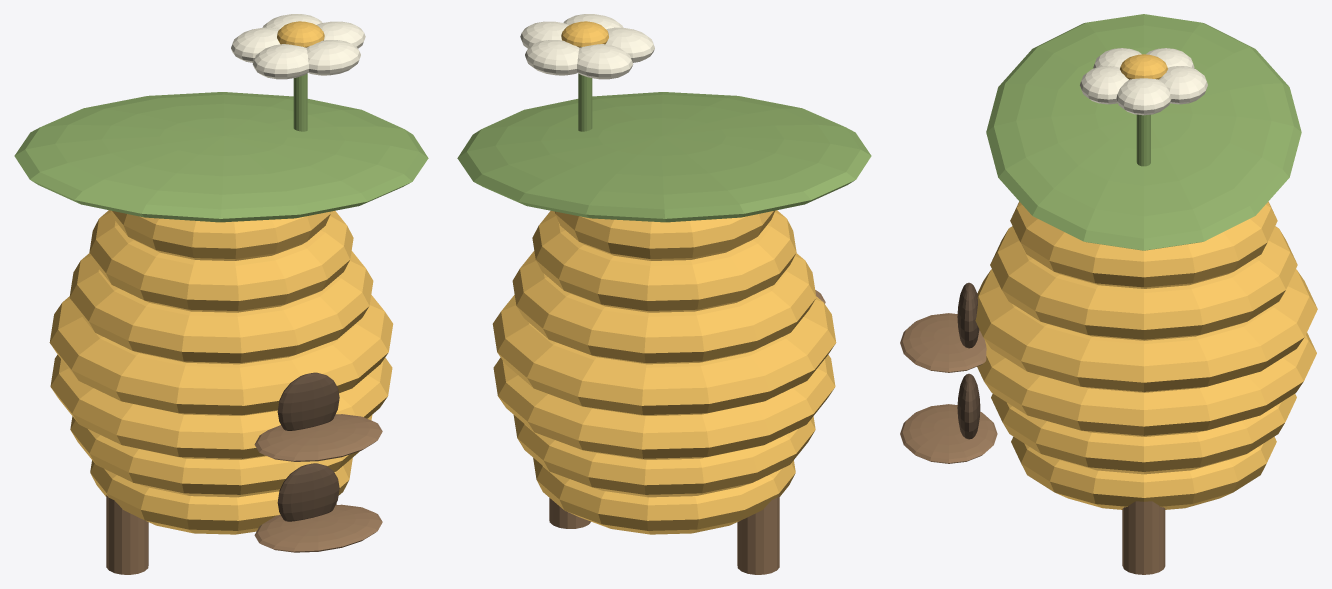
The model's file is BeeHome2.fbx.
3 renders of one model, left to right at view 1: azimuth 30°, elevation 25°; view 2: azimuth 150°, elevation 25°; view 3: azimuth 270°, elevation 25°, orthographic.
Visible parts, largest first — view 1: Leaf roof, Honey coil.003, Honey coil.004, Honey coil.005, Honey coil.002, Honey coil.001, Honey coil.006, Honey coil, Landing porch, Landing porch.001, Bee doorway, Bee doorway.001 (+7 smaller); view 2: Leaf roof, Honey coil.003, Honey coil.004, Honey coil.002, Honey coil.005, Honey coil.001, Honey coil, Honey coil.006, Foot, Roof blossom.002, Roof blossom.001, Roof blossom.003 (+4 smaller); view 3: Leaf roof, Honey coil.003, Honey coil.004, Honey coil.002, Honey coil.005, Honey coil.001, Honey coil, Landing porch, Landing porch.001, Foot.001, Roof blossom, Roof blossom.001 (+7 smaller).
Boxes of the visible parts, box(x1,y1,x2,y2) form: Leaf roof: box(14, 92, 428, 222); Honey coil.003: box(49, 295, 393, 415); Honey coil.004: box(69, 251, 373, 364); Honey coil.005: box(89, 210, 353, 312); Honey coil.002: box(50, 354, 392, 459); Honey coil.001: box(70, 415, 372, 497); Honey coil.006: box(111, 210, 330, 260); Honey coil: box(90, 458, 352, 534); Landing porch: box(254, 504, 382, 552); Landing porch.001: box(254, 414, 382, 461); Bee doorway: box(277, 463, 339, 521); Bee doorway.001: box(277, 372, 339, 430); Leaf roof: box(457, 92, 871, 222); Honey coil.003: box(492, 295, 836, 415); Honey coil.004: box(512, 251, 816, 364); Honey coil.002: box(493, 354, 835, 459); Honey coil.005: box(532, 210, 796, 312); Honey coil.001: box(513, 415, 815, 497); Honey coil: box(533, 458, 795, 534); Honey coil.006: box(555, 210, 774, 260); Foot: box(737, 495, 779, 574); Roof blossom.002: box(577, 44, 633, 79); Roof blossom.001: box(525, 40, 579, 75); Roof blossom.003: box(606, 27, 654, 62); Leaf roof: box(986, 14, 1301, 250); Honey coil.003: box(975, 269, 1317, 392); Honey coil.004: box(990, 226, 1297, 340); Honey coil.002: box(977, 332, 1316, 436); Honey coil.005: box(1010, 201, 1277, 288); Honey coil.001: box(991, 394, 1296, 474); Honey coil: box(1011, 436, 1276, 509); Landing porch: box(900, 404, 997, 463); Landing porch.001: box(900, 313, 986, 372); Foot.001: box(1122, 501, 1165, 574); Roof blossom: box(1116, 78, 1171, 115); Roof blossom.001: box(1159, 66, 1207, 104).
Bounding box in the file's own units: 155 × 193 × 146.
